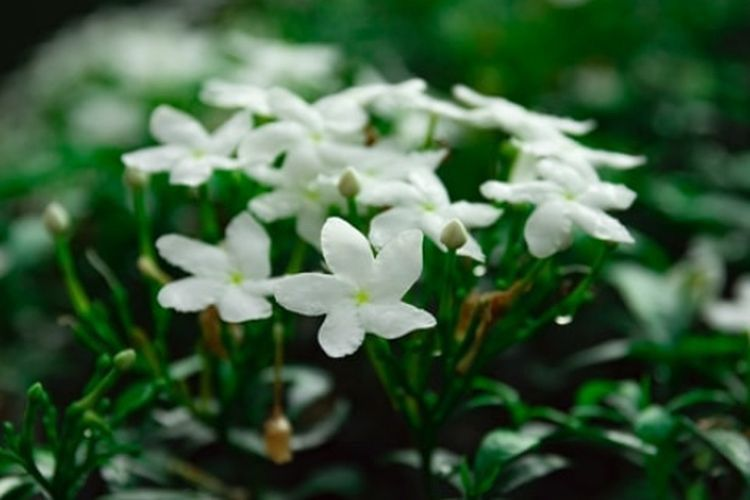jasmine: (131, 89, 617, 329)
